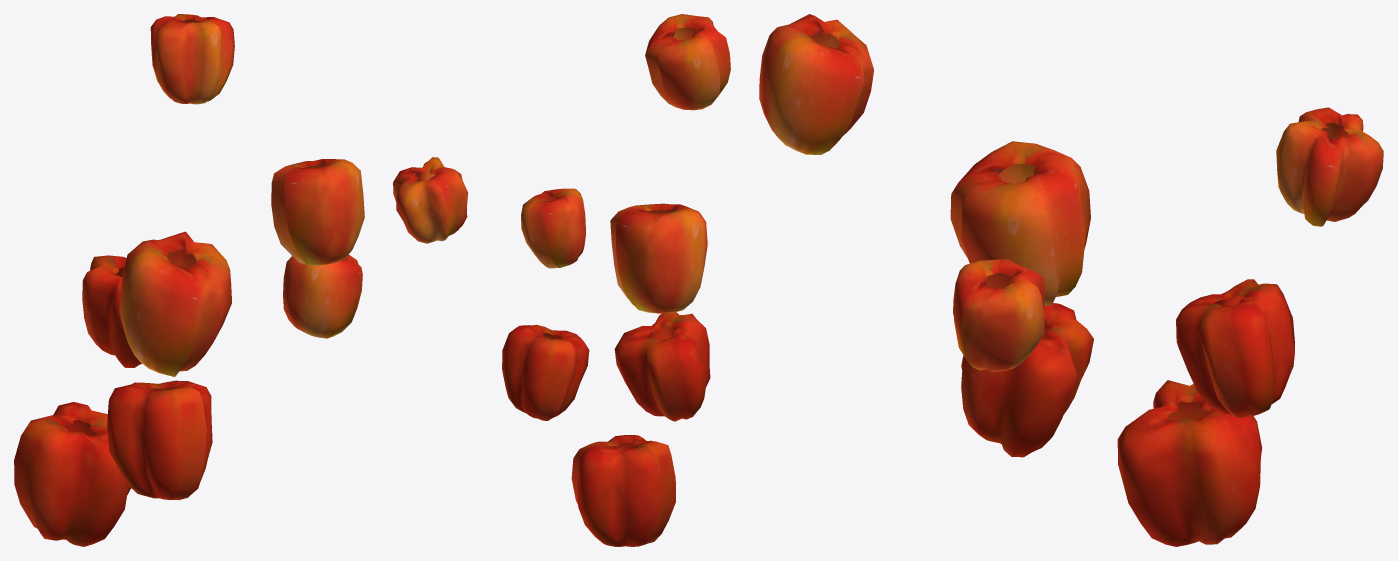
File: VG07_6_fruitonly.dae
3 renders of one model, left to right at view 1: azimuth 30°, elevation 25°; view 2: azimuth 150°, elevation 25°; view 3: azimuth 270°, elevation 25°, orthographic. The views are drawn at different scales.
Parts seen in each view (by area): view 1: VG07_021; view 2: VG07_021; view 3: VG07_021.
Part boxes in pixels (x1=…): VG07_021: x1=14, y1=14, x2=364, y2=546; VG07_021: x1=393, y1=14, x2=730, y2=546; VG07_021: x1=759, y1=14, x2=1383, y2=546.
Size of the model in its own units: 0.2035 by 0.3498 by 0.3487.
2 materials, 2 textured.
